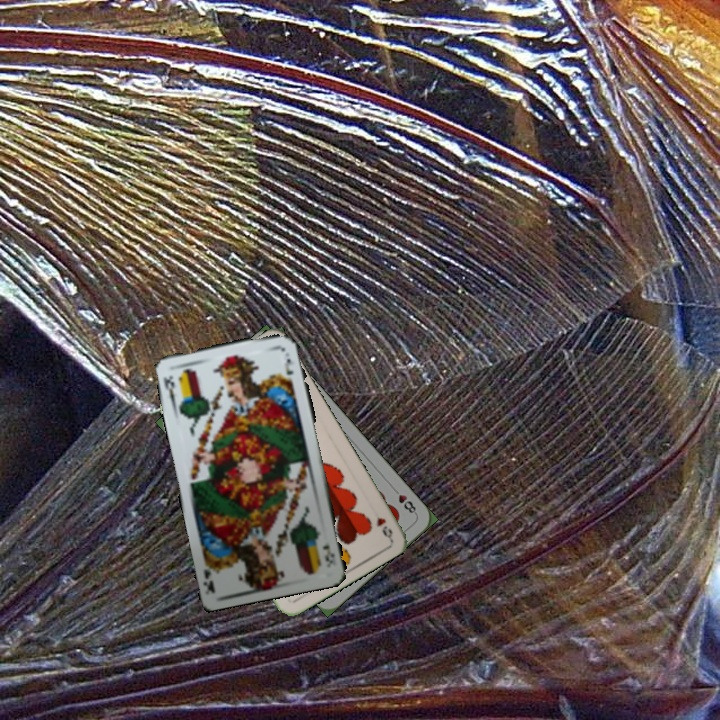EK: (159, 372, 179, 409), (318, 540, 337, 570)
H8: (389, 484, 419, 517)
H9: (372, 513, 395, 541)
